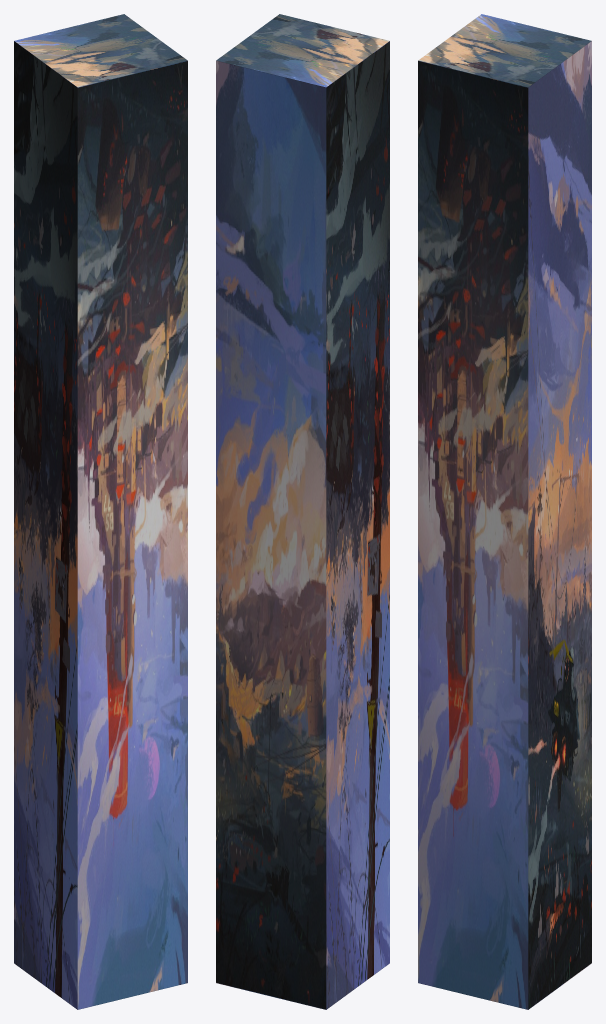
The model's file is stick.glb.
3 views of the same model, side by side, from view 1: azimuth 30°, elevation 25°; view 2: azimuth 150°, elevation 25°; view 3: azimuth 330°, elevation 25° (orthographic).
Parts seen in each view (by area): view 1: Cube; view 2: Cube; view 3: Cube.
Boxes of the visible parts, box(x1,y1,x2,y2) form: Cube: box(14, 14, 187, 1009); Cube: box(216, 14, 389, 1009); Cube: box(418, 14, 591, 1009).
Size of the model in its own units: 1 by 8 by 1.
1 material, 1 textured.
